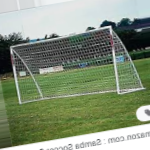goals: (8, 25, 147, 105)
